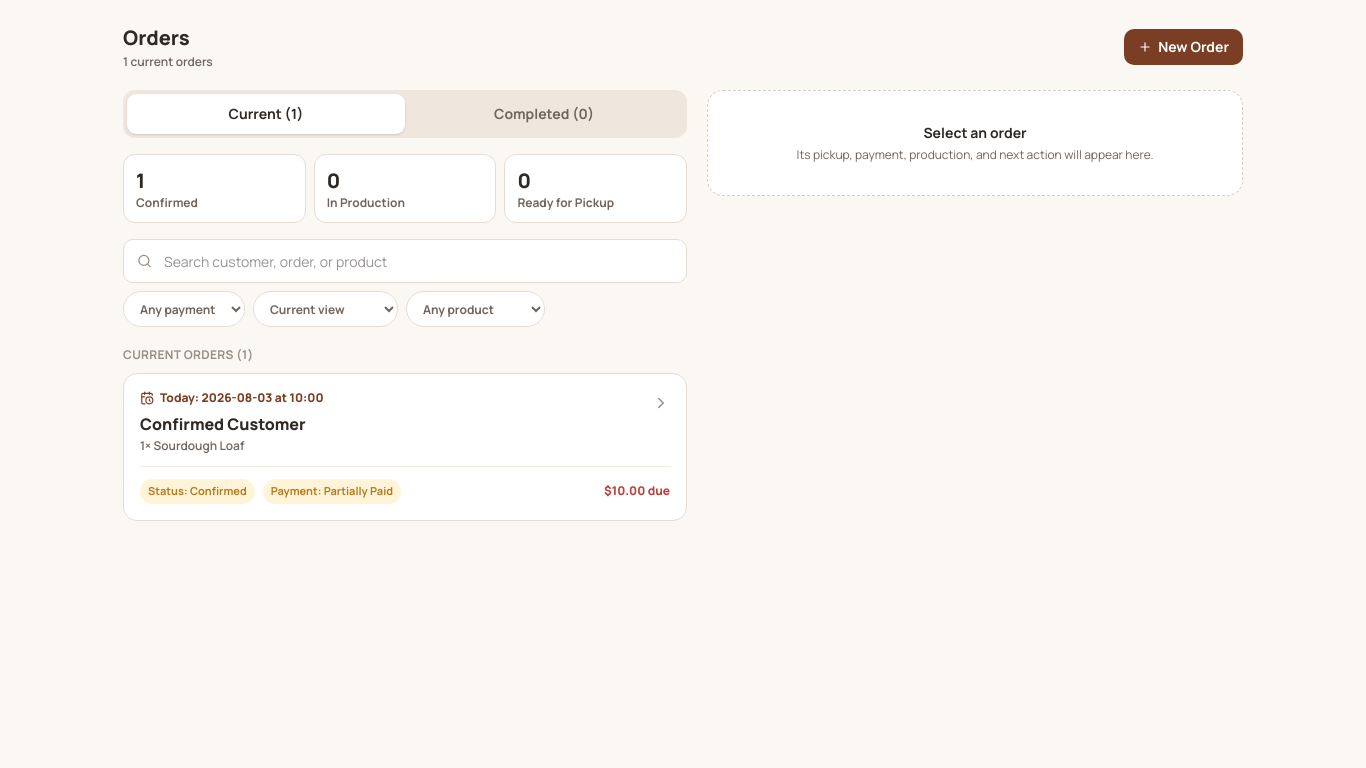
Test: OrdersScreen workflow queue › marks the full balance paid after the authoritative parent refresh
Click the button with aria-label "Open order order-confirmed for Confirmed Customer" at (242, 398), box x1=124 y1=374 x2=686 y2=520
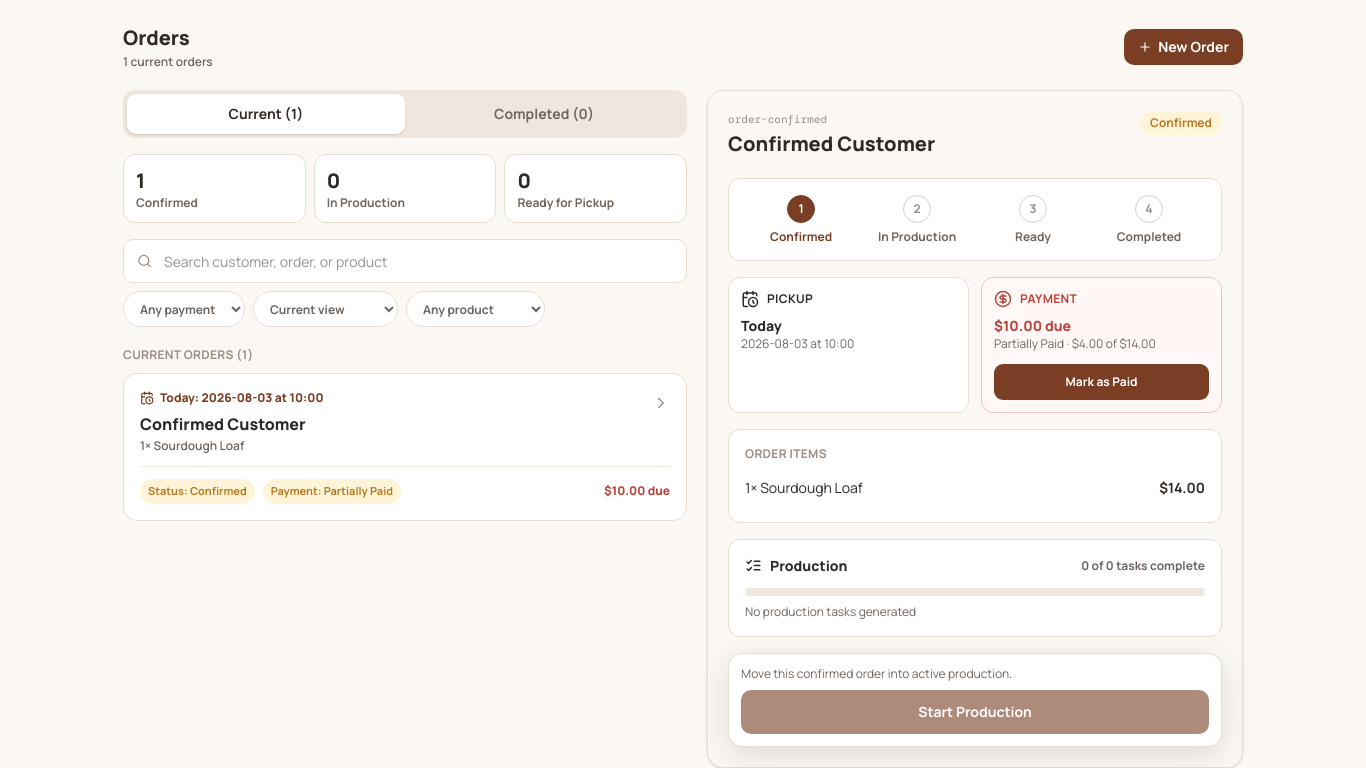
Check: the element named "Payment summary" shows "$10.00 due", box x1=994 y1=316 x2=1071 y2=334
Click the button "Mark as Paid" at (1102, 382), box x1=994 y1=364 x2=1209 y2=400
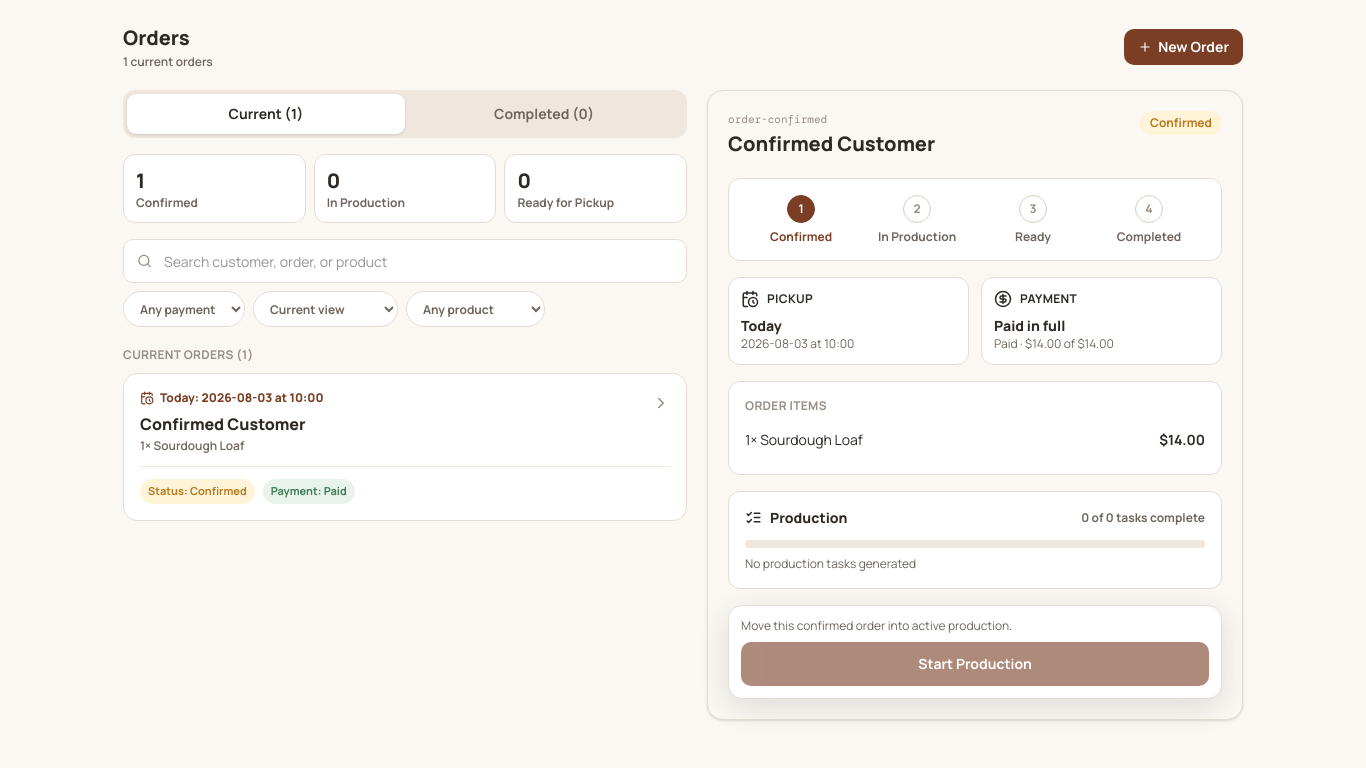
Check: the list named "Current status: Confirmed" is shown, box x1=745 y1=194 x2=1205 y2=244
Check: the element named "Payment summary" shows "Paid in full", box x1=994 y1=316 x2=1065 y2=334
Check: the button "Mark as Paid" is gone
